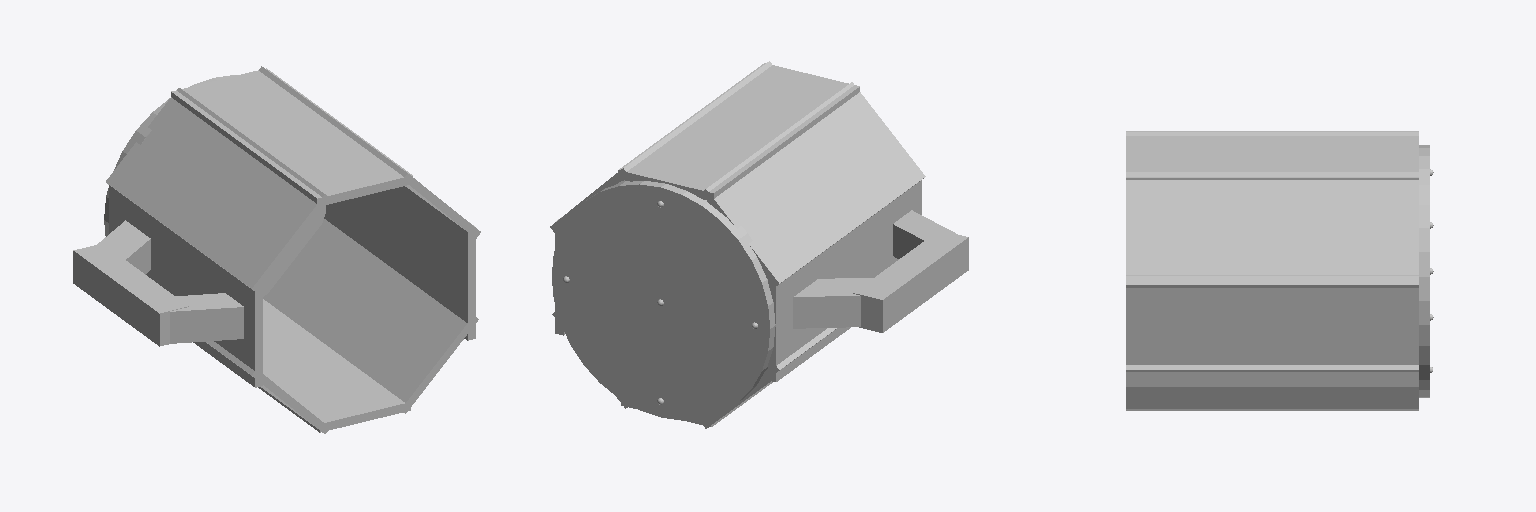
The model's file is mug-primitive.obj.
3 renders of one model, left to right at view 1: azimuth 30°, elevation 25°; view 2: azimuth 150°, elevation 25°; view 3: azimuth 270°, elevation 25°, orthographic.
Parts seen in each view (by area): view 1: Cube.009_Cube.010, Cube.010_Cube.011, Cube.005_Cube.006, Cube.004_Cube.005, Cube.006_Cube.007, Cube.003_Cube.004, Cube.001_Cube.002, Cube_Cube.001, Cube.007_Cube.008, Cylinder, Cube.002_Cube.003, Cube.008_Cube.009; view 2: Cylinder, Cube.009_Cube.010, Cube.005_Cube.006, Cube.003_Cube.004, Cube.001_Cube.002, Cube.002_Cube.003, Cube_Cube.001, Cube.007_Cube.008, Cube.008_Cube.009; view 3: Cube.007_Cube.008, Cube.004_Cube.005, Cube.005_Cube.006, Cube.010_Cube.011, Cylinder, Cube.009_Cube.010, Cube.006_Cube.007.
Part boxes in pixels (bbox=[...]): Cube.009_Cube.010: bbox=[106, 88, 329, 290]; Cube.010_Cube.011: bbox=[263, 219, 478, 413]; Cube.005_Cube.006: bbox=[171, 68, 412, 206]; Cube.004_Cube.005: bbox=[324, 186, 475, 340]; Cube.006_Cube.007: bbox=[258, 299, 410, 432]; Cube.003_Cube.004: bbox=[109, 185, 262, 387]; Cube.001_Cube.002: bbox=[73, 243, 188, 346]; Cube_Cube.001: bbox=[170, 293, 243, 343]; Cube.007_Cube.008: bbox=[259, 66, 480, 238]; Cylinder: bbox=[104, 75, 325, 296]; Cube.002_Cube.003: bbox=[97, 220, 150, 274]; Cube.008_Cube.009: bbox=[206, 341, 327, 433]; Cylinder: bbox=[552, 180, 775, 420]; Cube.009_Cube.010: bbox=[702, 82, 925, 287]; Cube.005_Cube.006: bbox=[618, 63, 859, 201]; Cube.003_Cube.004: bbox=[768, 180, 921, 381]; Cube.001_Cube.002: bbox=[853, 230, 968, 332]; Cube.002_Cube.003: bbox=[793, 278, 872, 328]; Cube_Cube.001: bbox=[893, 210, 955, 258]; Cube.007_Cube.008: bbox=[550, 61, 771, 232]; Cube.008_Cube.009: bbox=[702, 328, 836, 428]; Cube.007_Cube.008: bbox=[1126, 172, 1418, 287]; Cube.004_Cube.005: bbox=[1126, 275, 1418, 386]; Cube.005_Cube.006: bbox=[1126, 131, 1418, 179]; Cube.010_Cube.011: bbox=[1126, 365, 1418, 408]; Cylinder: bbox=[1419, 145, 1429, 397]; Cube.009_Cube.010: bbox=[1126, 132, 1418, 135]; Cube.006_Cube.007: bbox=[1126, 409, 1418, 410].
Size of the model in its own units: 0.2464 by 0.191 by 0.2204.